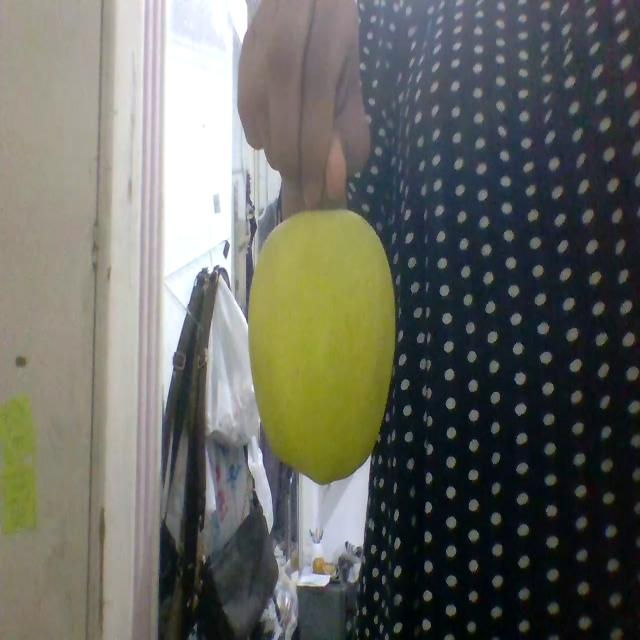50-_ripeness: (248, 208, 396, 483)
